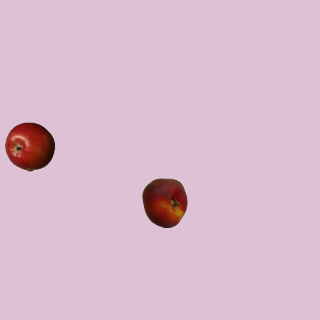Apple Braeburn: (4, 121, 54, 171)
Nectarine Flat: (139, 177, 189, 227)
